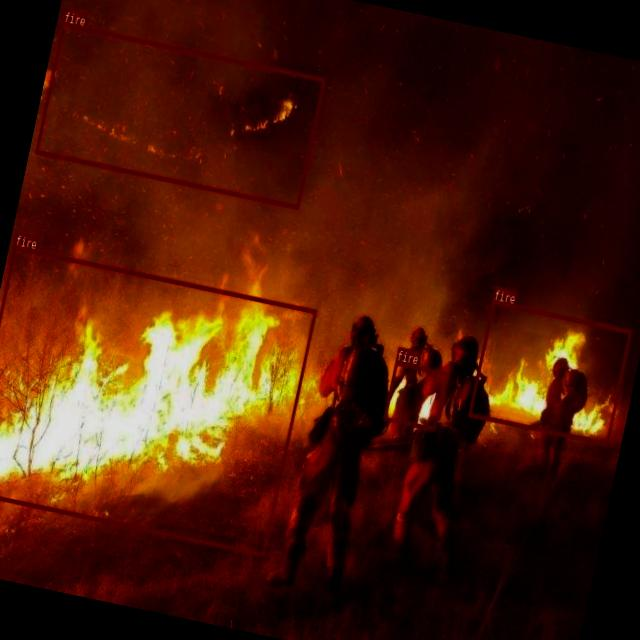fire: (0, 244, 316, 555), (34, 22, 325, 208), (467, 300, 631, 444), (382, 360, 448, 431)
